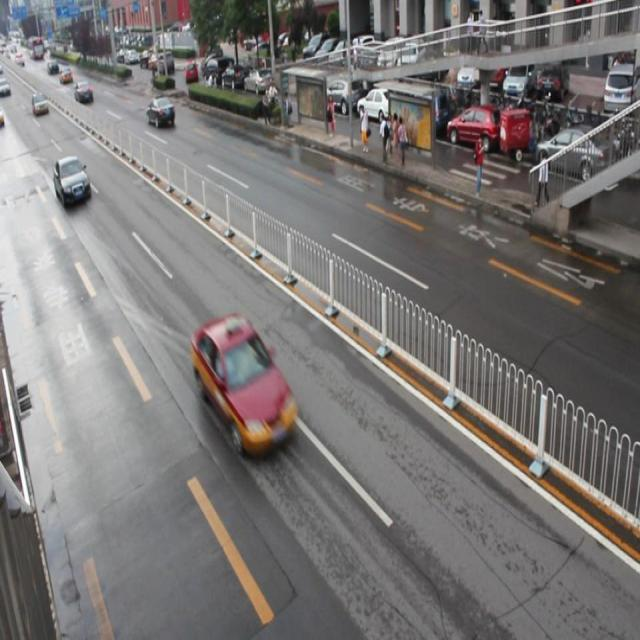car: (190, 312, 294, 452), (53, 153, 92, 208), (147, 94, 176, 129)
